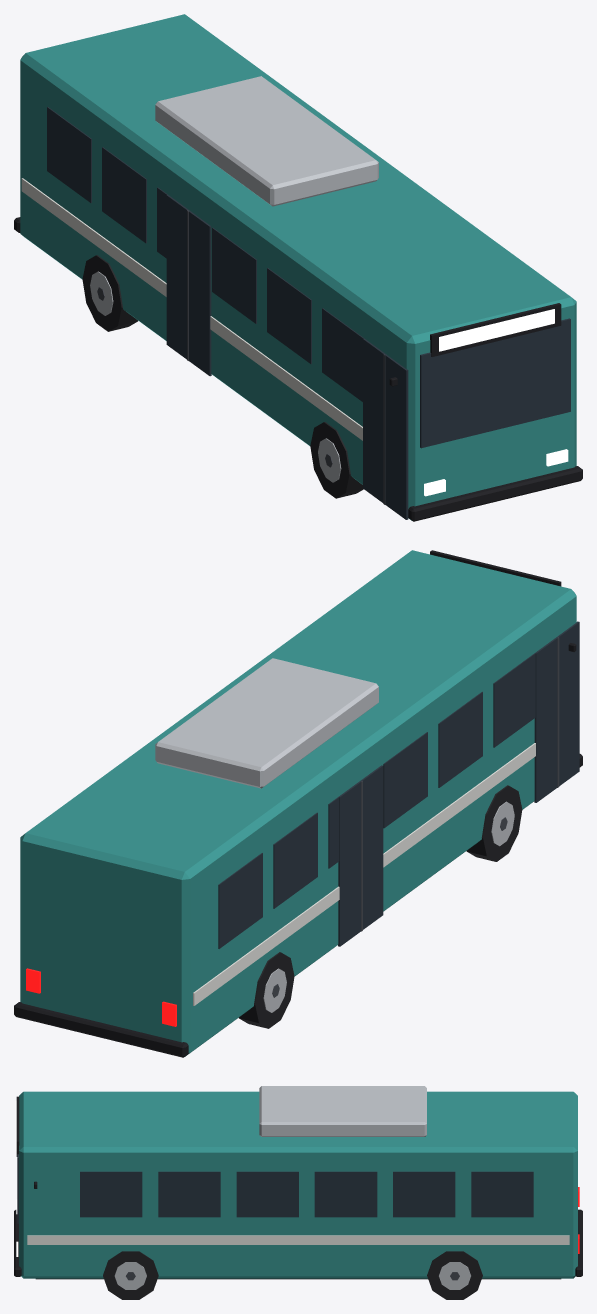
Rendered from Bus_City.glb.
3 views of the same model, one above another, from view 1: azimuth 30°, elevation 25°; view 2: azimuth 150°, elevation 25°; view 3: azimuth 270°, elevation 25° (orthographic). The views are drawn at different scales.
Visible parts, largest first — view 1: Bus_City, Bus_City_Wheel_RL, Bus_City_Wheel_FL; view 2: Bus_City, Bus_City_Wheel_FL, Bus_City_Wheel_RL; view 3: Bus_City, Bus_City_Wheel_FR, Bus_City_Wheel_RR.
Boxes of the visible parts, box(x1,y1,x2,y2) form: Bus_City: box(14, 14, 582, 521); Bus_City_Wheel_RL: box(82, 255, 137, 331); Bus_City_Wheel_FL: box(310, 422, 363, 498); Bus_City: box(14, 550, 582, 1057); Bus_City_Wheel_FL: box(466, 785, 522, 861); Bus_City_Wheel_RL: box(239, 952, 294, 1028); Bus_City: box(14, 1086, 582, 1279); Bus_City_Wheel_FR: box(103, 1251, 158, 1299); Bus_City_Wheel_RR: box(427, 1251, 482, 1299).
Bounding box in the file's own units: 2.72 × 3.28 × 10.18.
Materials: 1 (1 with a texture image).
